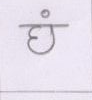anusvara: (41, 10, 49, 18)
